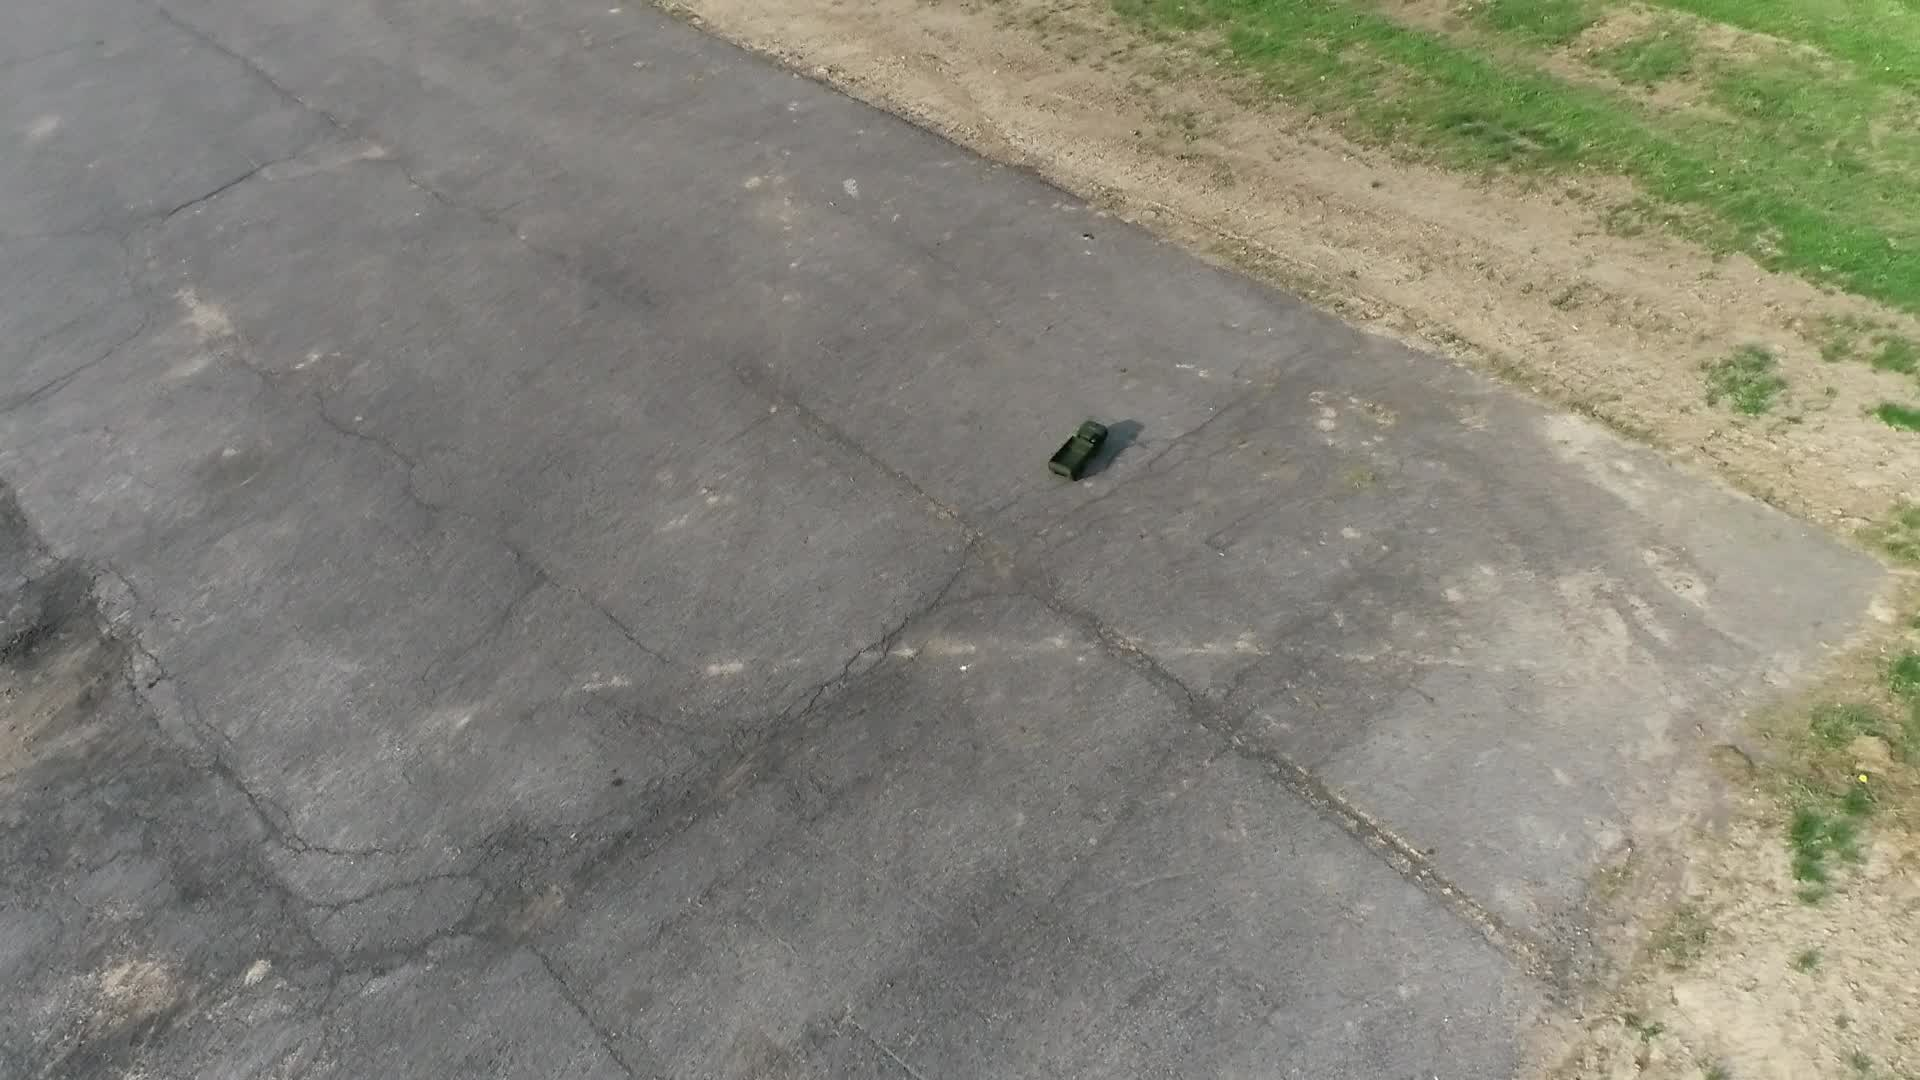transporter9: (1044, 418, 1113, 484)
